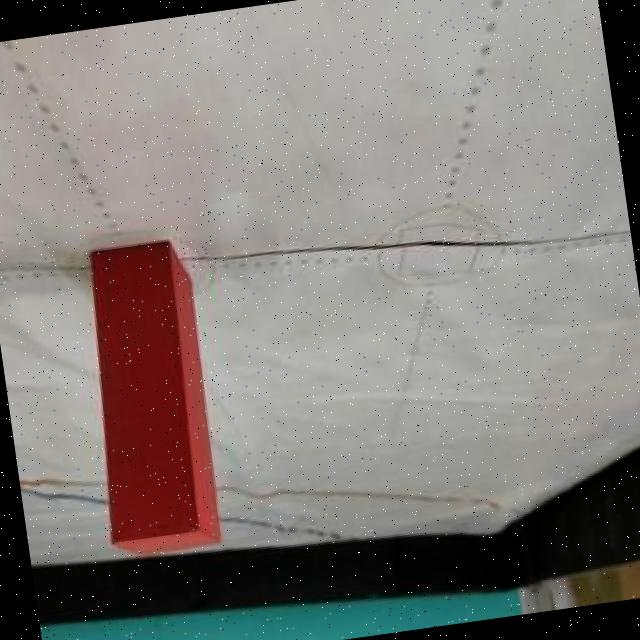redbox: (71, 236, 232, 563)
